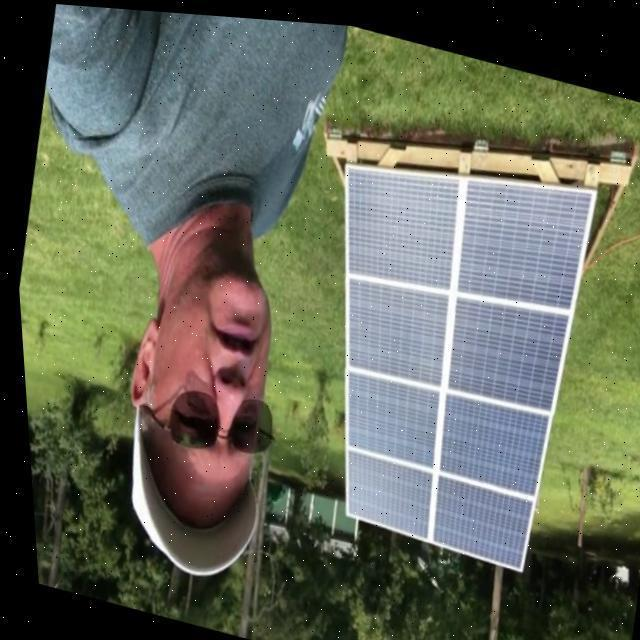Normal Solar Panel: (274, 118, 618, 574)
